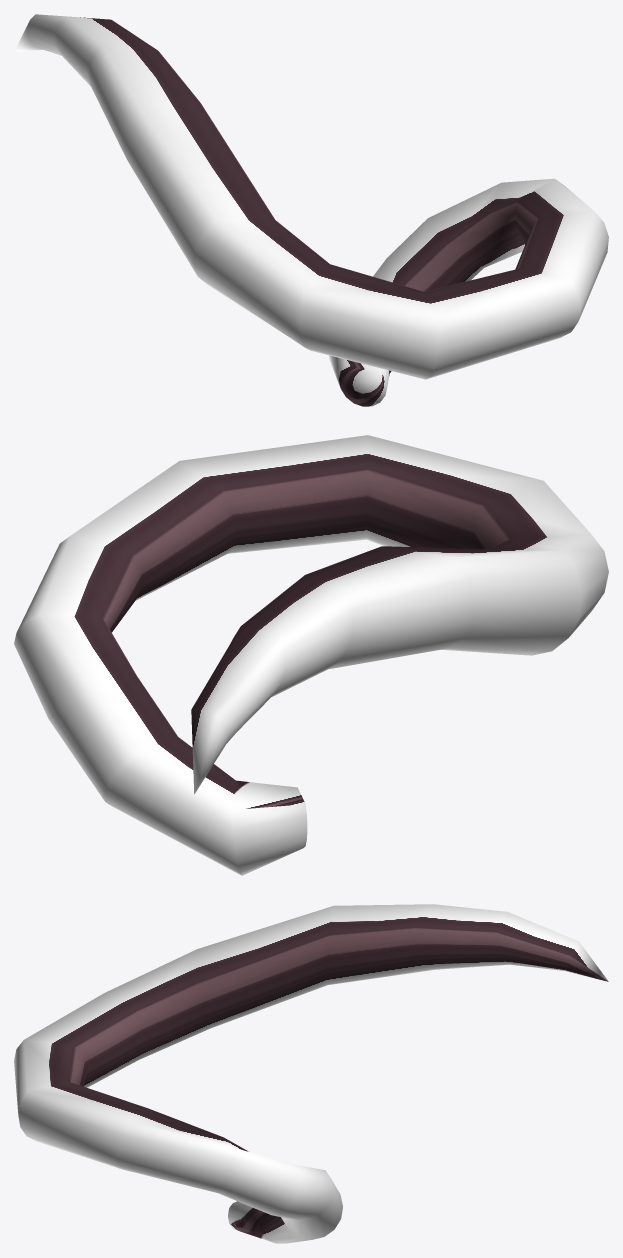
Rendered from NIVEL1_LUCES_RAMA5.fbx.
3 views of the same model, one above another, from view 1: azimuth 30°, elevation 25°; view 2: azimuth 150°, elevation 25°; view 3: azimuth 270°, elevation 25° (orthographic). The views are drawn at different scales.
Visible parts, largest first — view 1: rama.005; view 2: rama.005; view 3: rama.005.
Part boxes in pixels (box(x1,y1,x2,y2)): rama.005: box(14, 14, 608, 406); rama.005: box(14, 435, 608, 875); rama.005: box(14, 904, 608, 1243).
Size of the model in its own units: 524 by 410 by 819.
